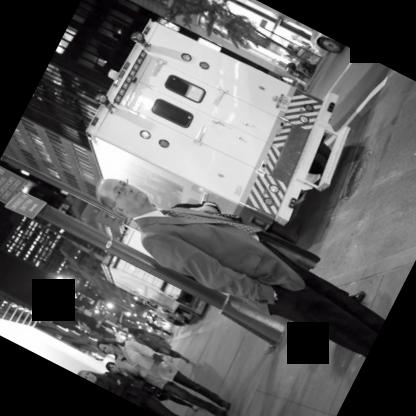handbag: (143, 381, 170, 401), (137, 335, 160, 351)
